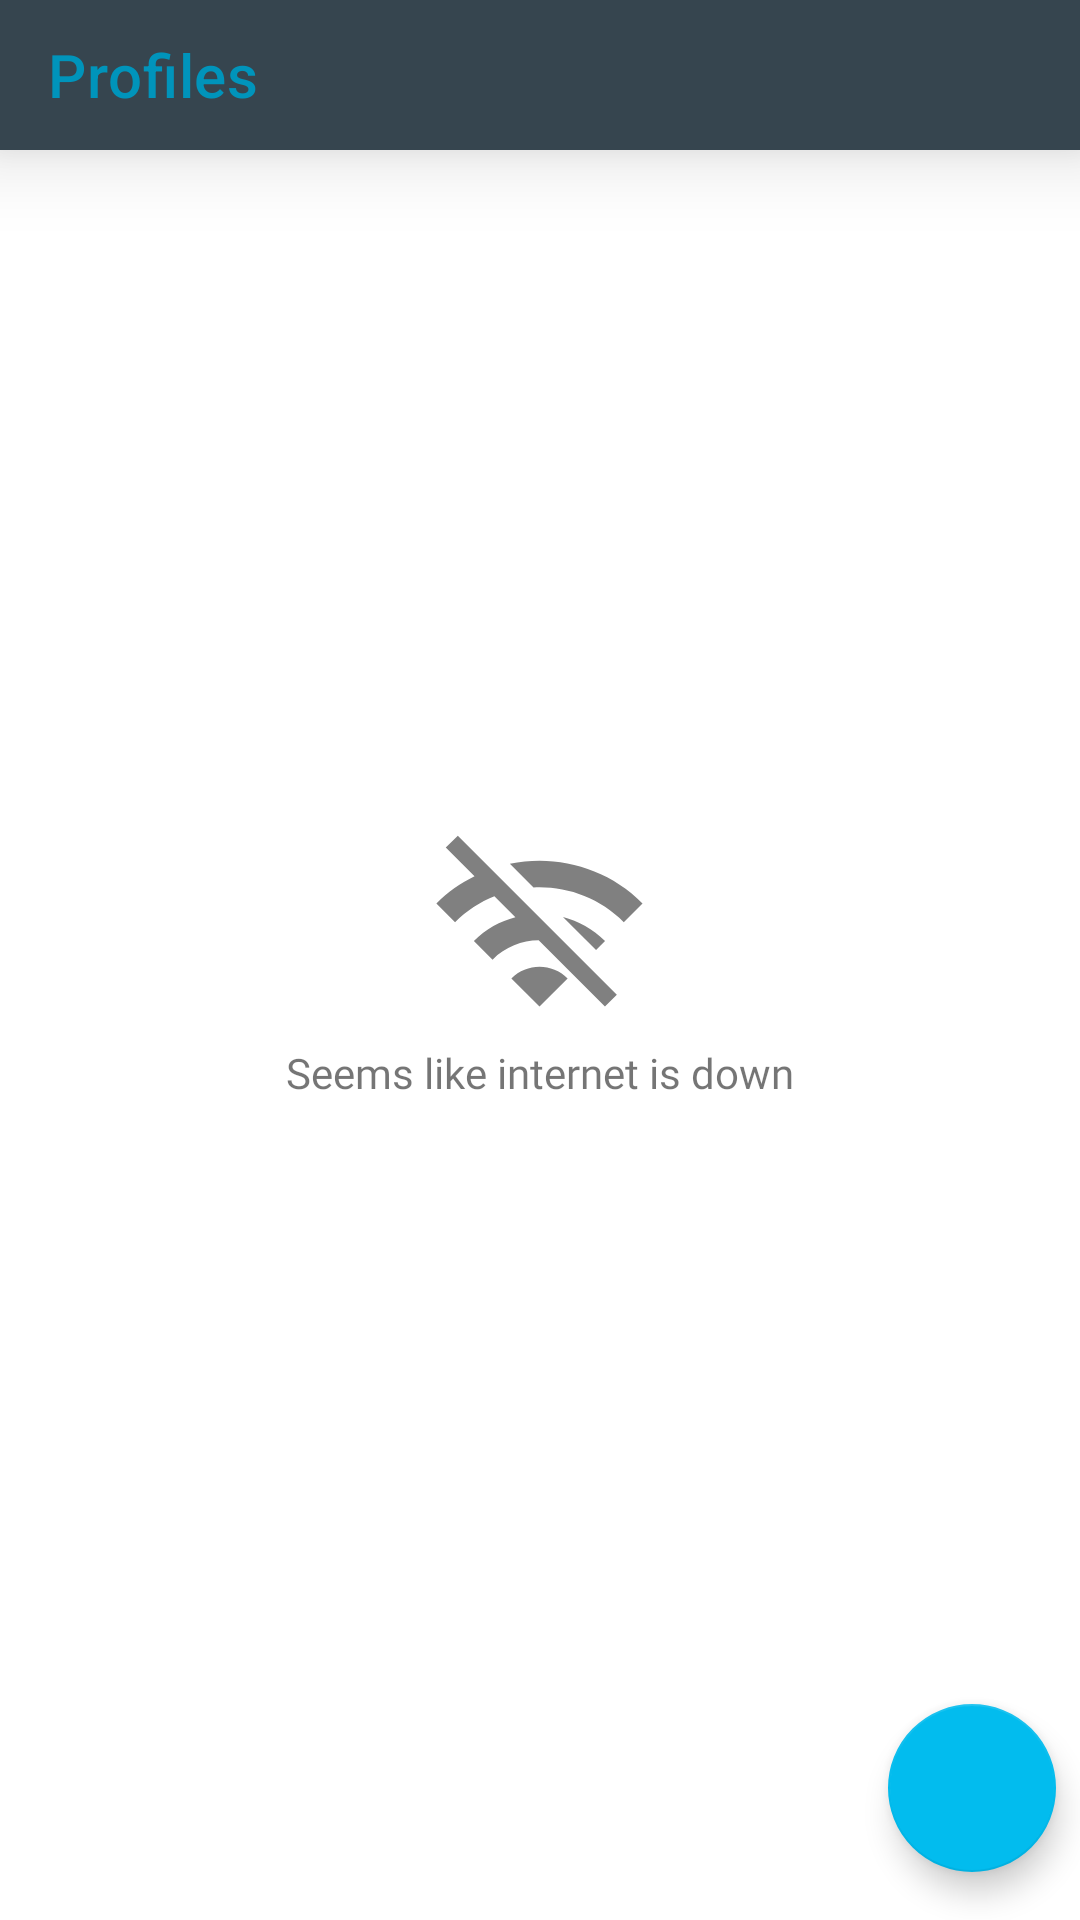

Point at icon controls on the screen. Image size 1080x1920, points as (x=x, y=y).
wifi off: (x=539, y=921)
